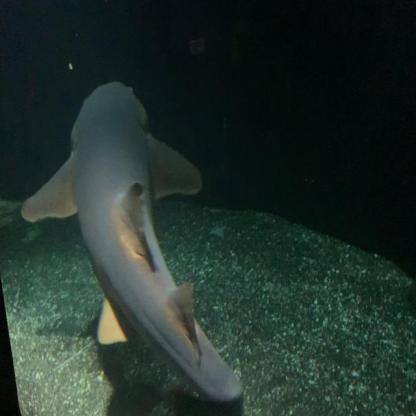shark: (21, 78, 246, 408)
